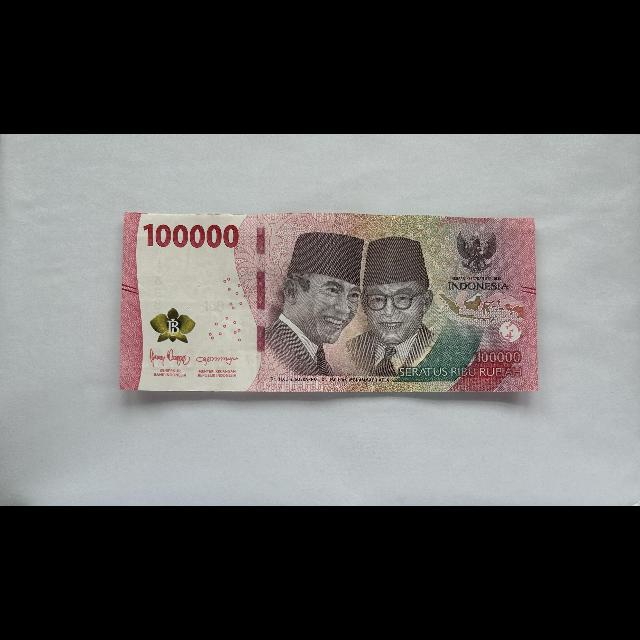Asli-100k: (118, 211, 540, 393)
Tinta-Asli-100k: (150, 308, 197, 345)
